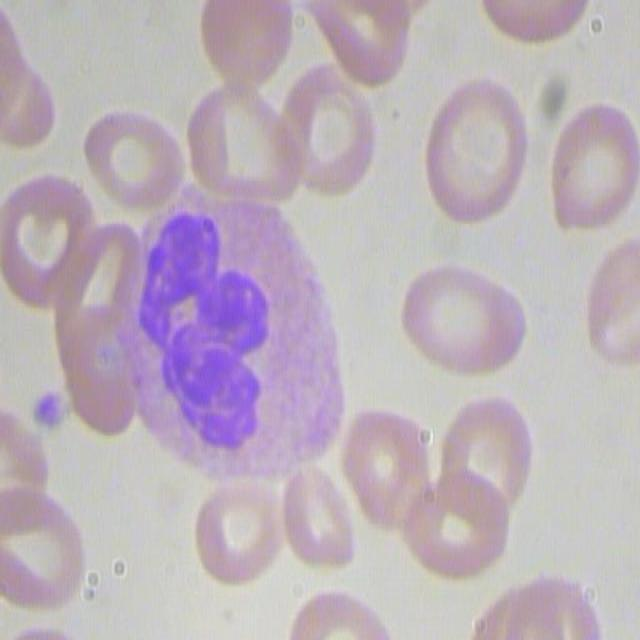RBC: (423, 74, 536, 231), (175, 84, 301, 213), (396, 258, 526, 382), (0, 162, 92, 314), (0, 454, 84, 618), (539, 98, 638, 234), (276, 68, 376, 200), (400, 472, 511, 589), (436, 380, 538, 506), (341, 403, 430, 537), (187, 466, 280, 591), (84, 100, 180, 219), (57, 323, 147, 441), (312, 2, 414, 102), (199, 0, 299, 96), (472, 572, 608, 640), (2, 23, 70, 149), (283, 576, 403, 640), (582, 238, 640, 370), (476, 0, 600, 47), (1, 394, 47, 490)
WBC: (146, 173, 314, 472)
platelets: (28, 384, 66, 436)
